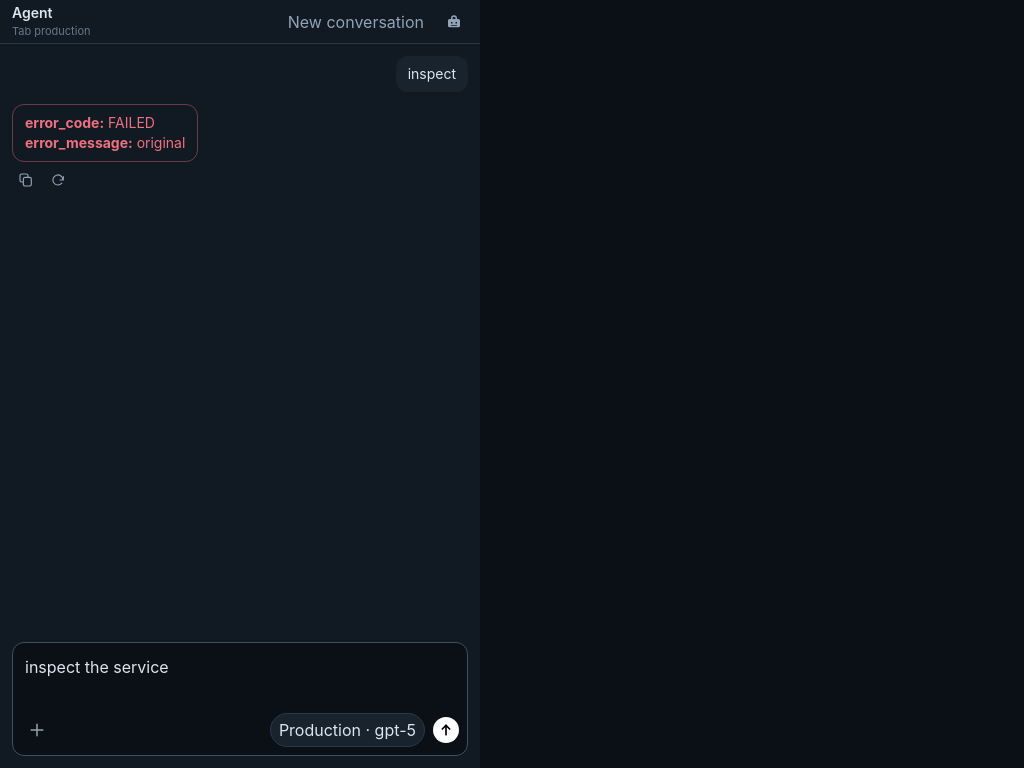
Test: AgentWorkspace › does not carry retry confirmation to a different message
Click the button named "Retry".
click(58, 180)  # box [44,166,72,194]
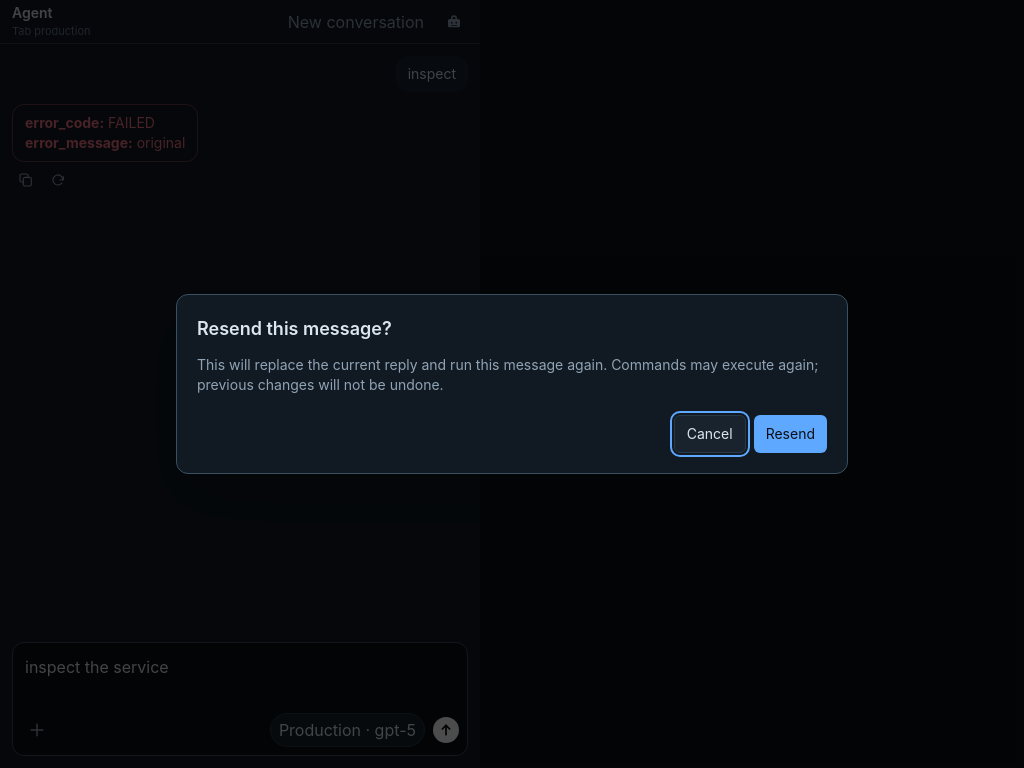
Expected: the dialog is shown, [176,294,848,474]
